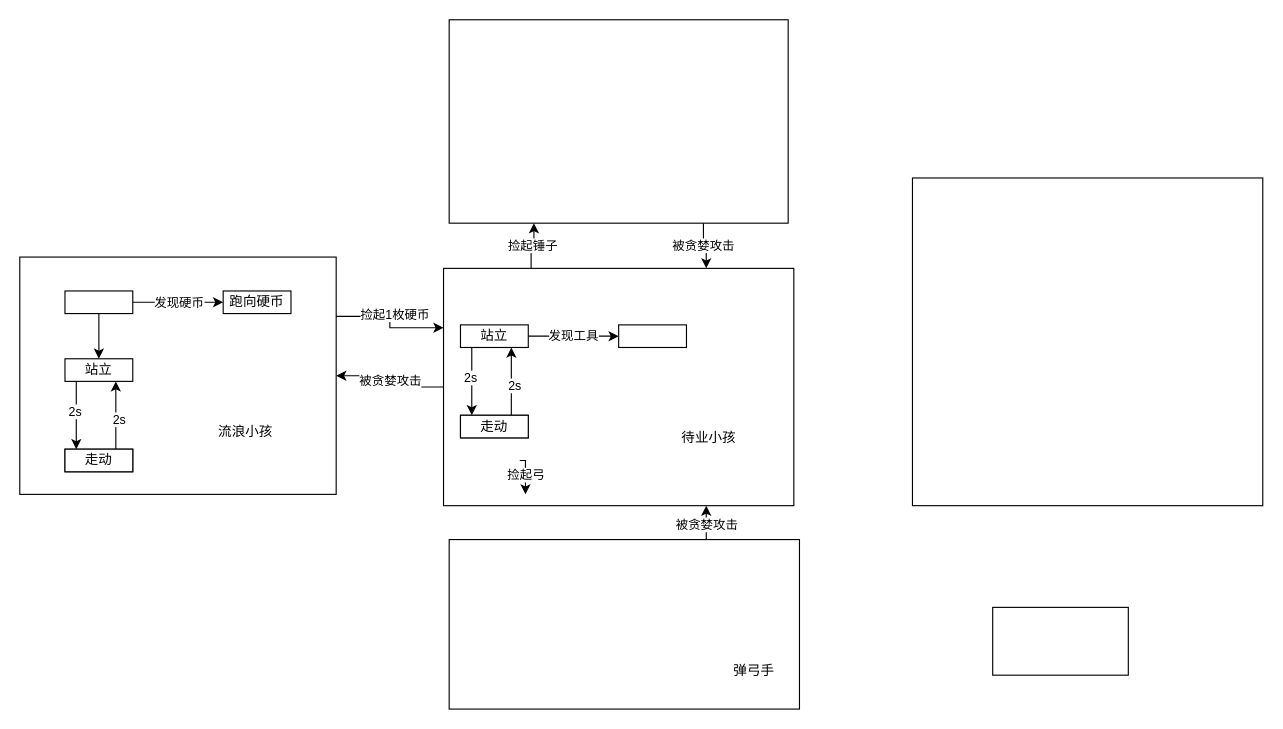
Some shapes in this 1283 by 729 pixel diagram are drawn without their labels. The box of each missing label's shape, as (x1, y1, x2, y2) in pixels:
工人: (448, 19, 788, 223)
战士: (911, 177, 1263, 506)
跑向工具: (618, 324, 686, 347)
闲逛: (64, 290, 133, 314)
